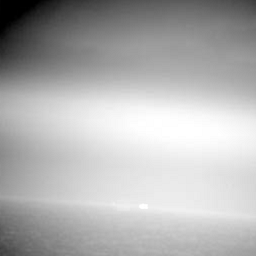Target: (136, 202, 151, 210)
